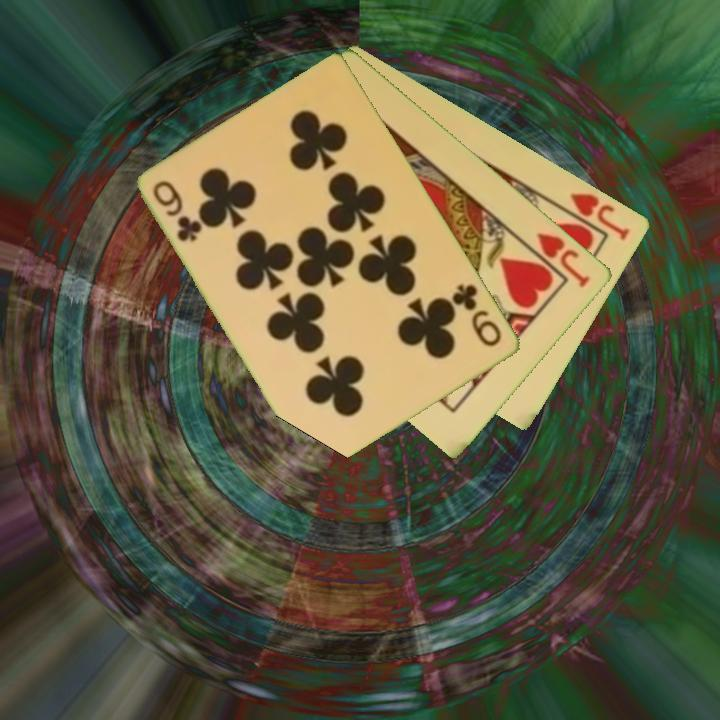9c: (449, 280, 506, 350), (149, 176, 205, 245)
Jh: (521, 228, 594, 291), (555, 189, 634, 243)
